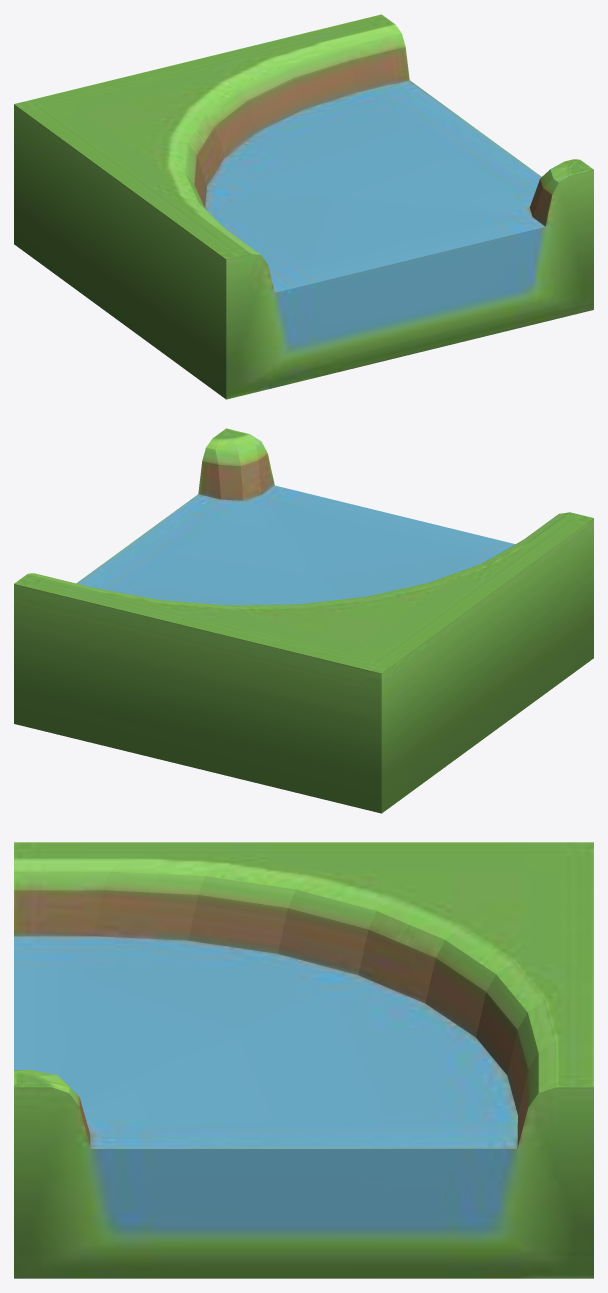
The model's file is creek_end.glb.
The picture shows the model from 3 angles, top to bottom: view 1: azimuth 30°, elevation 25°; view 2: azimuth 150°, elevation 25°; view 3: azimuth 270°, elevation 25°; orthographic projection. The views are drawn at different scales.
Visible parts, largest first — view 1: creek_end; view 2: creek_end; view 3: creek_end.
Part boxes in pixels (bbox=[...]): creek_end: bbox=[14, 14, 593, 399]; creek_end: bbox=[14, 428, 593, 813]; creek_end: bbox=[14, 842, 593, 1278].
Size of the model in its own units: 2 by 0.7285 by 2.
Materials: 1 (1 with a texture image).
